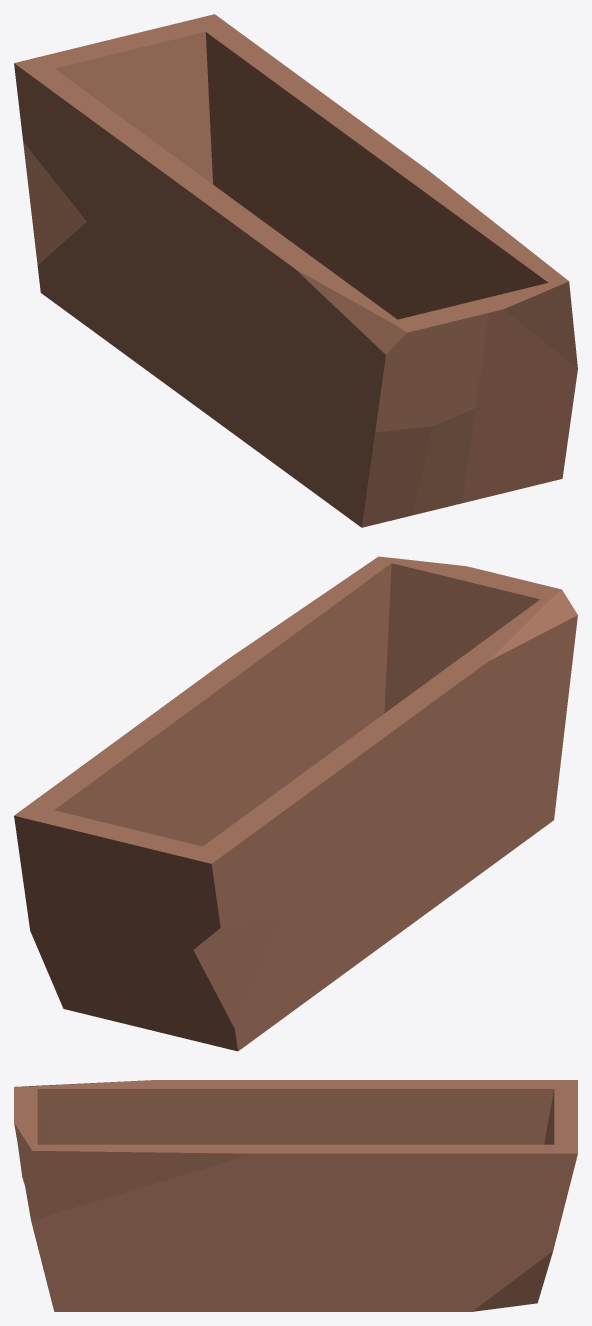
File: basket22.fbx
3 renders of one model, top to bottom at view 1: azimuth 30°, elevation 25°; view 2: azimuth 150°, elevation 25°; view 3: azimuth 270°, elevation 25°, orthographic. The views are drawn at different scales.
Visible parts, largest first — view 1: 立方体.064; view 2: 立方体.064; view 3: 立方体.064.
Part boxes in pixels (left/top/right/bottom): 立方体.064: left=14, top=14, right=577, bottom=527; 立方体.064: left=14, top=556, right=577, bottom=1051; 立方体.064: left=14, top=1080, right=577, bottom=1311.
Size of the model in its own units: 1026 by 318 by 318.
